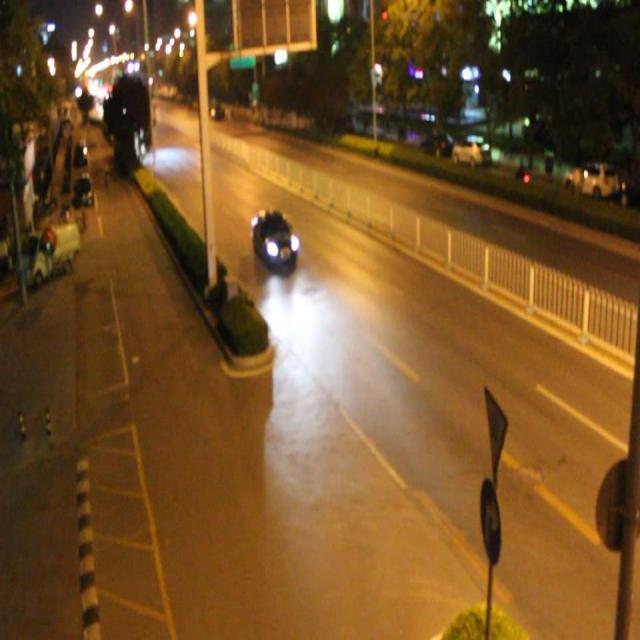car: (251, 208, 298, 270)
